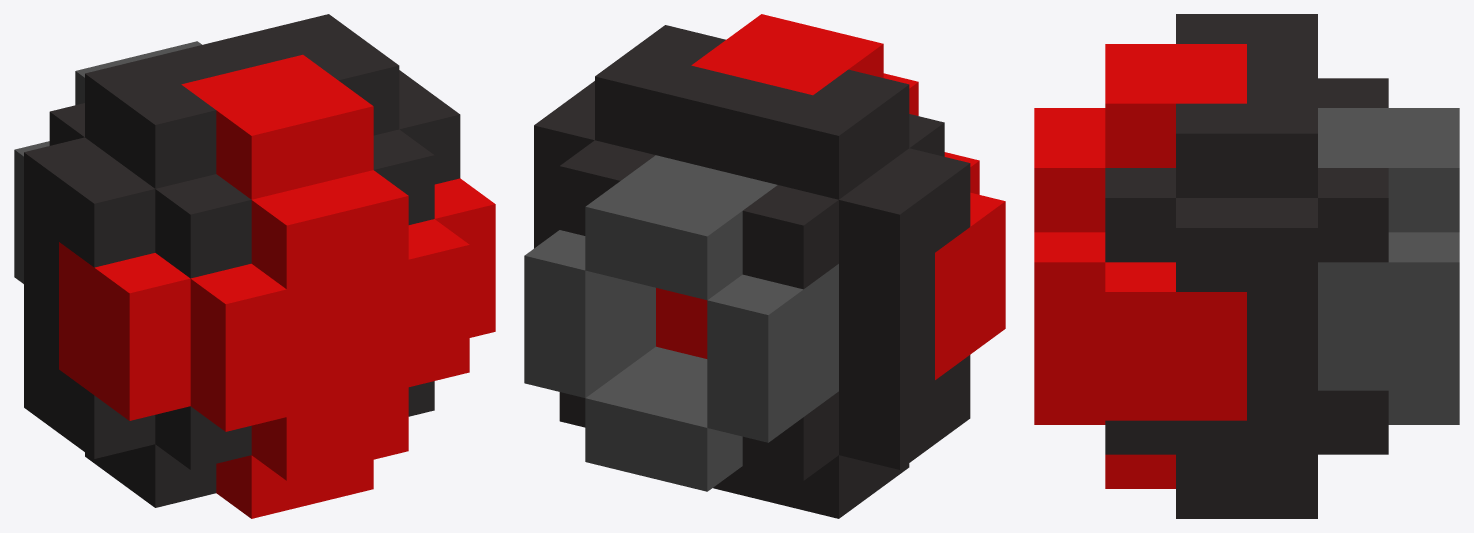
The model's file is rl_overload_rocket.obj.
3 views of the same model, side by side, from view 1: azimuth 30°, elevation 25°; view 2: azimuth 150°, elevation 25°; view 3: azimuth 270°, elevation 25° (orthographic).
Size of the model in its own units: 0.6 by 0.6 by 0.6.
Materials: 1 (1 with a texture image).
